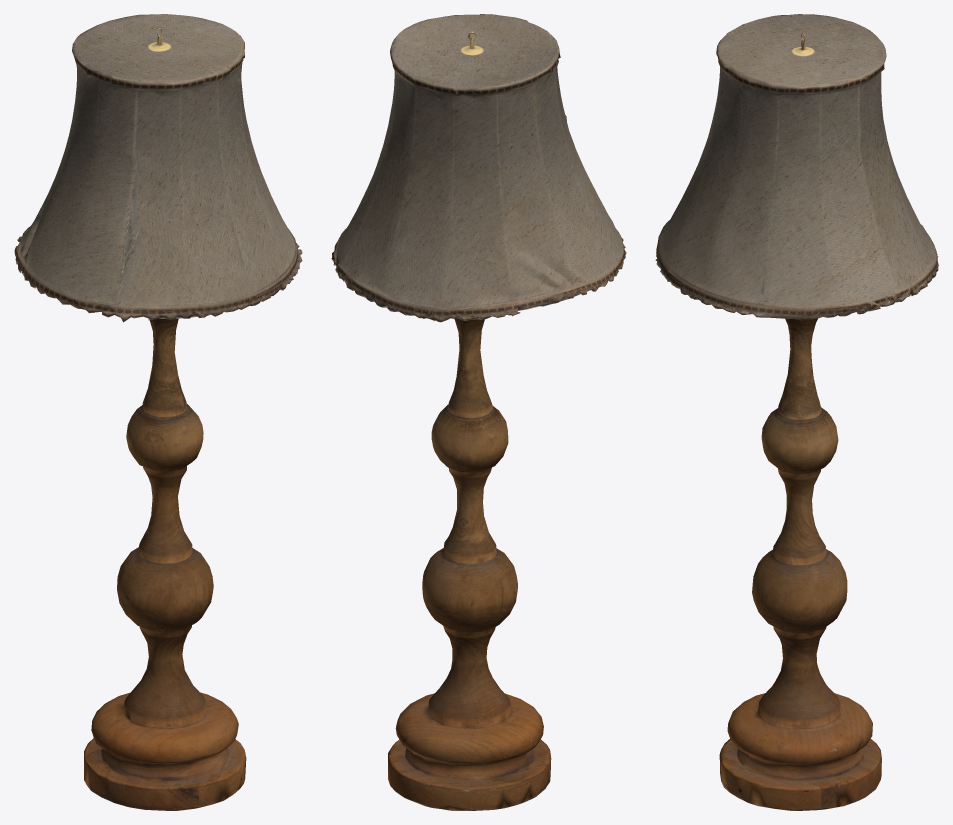
3 renders of one model, left to right at view 1: azimuth 30°, elevation 25°; view 2: azimuth 150°, elevation 25°; view 3: azimuth 270°, elevation 25°, orthographic.
Visible parts, largest first — view 1: SM_vi5hbjgga_1, SM_vi5hbjgga_0; view 2: SM_vi5hbjgga_1, SM_vi5hbjgga_0; view 3: SM_vi5hbjgga_1, SM_vi5hbjgga_0.
Part boxes in pixels (left/top/right/bottom): SM_vi5hbjgga_1: left=14, top=14, right=302, bottom=322; SM_vi5hbjgga_0: left=84, top=318, right=246, bottom=810; SM_vi5hbjgga_1: left=331, top=14, right=626, bottom=322; SM_vi5hbjgga_0: left=388, top=318, right=551, bottom=810; SM_vi5hbjgga_1: left=655, top=14, right=938, bottom=319; SM_vi5hbjgga_0: left=719, top=318, right=881, bottom=810.
Bounding box in the file's own units: 0.5737 × 1.64 × 0.5657.
1 material, 1 textured.
